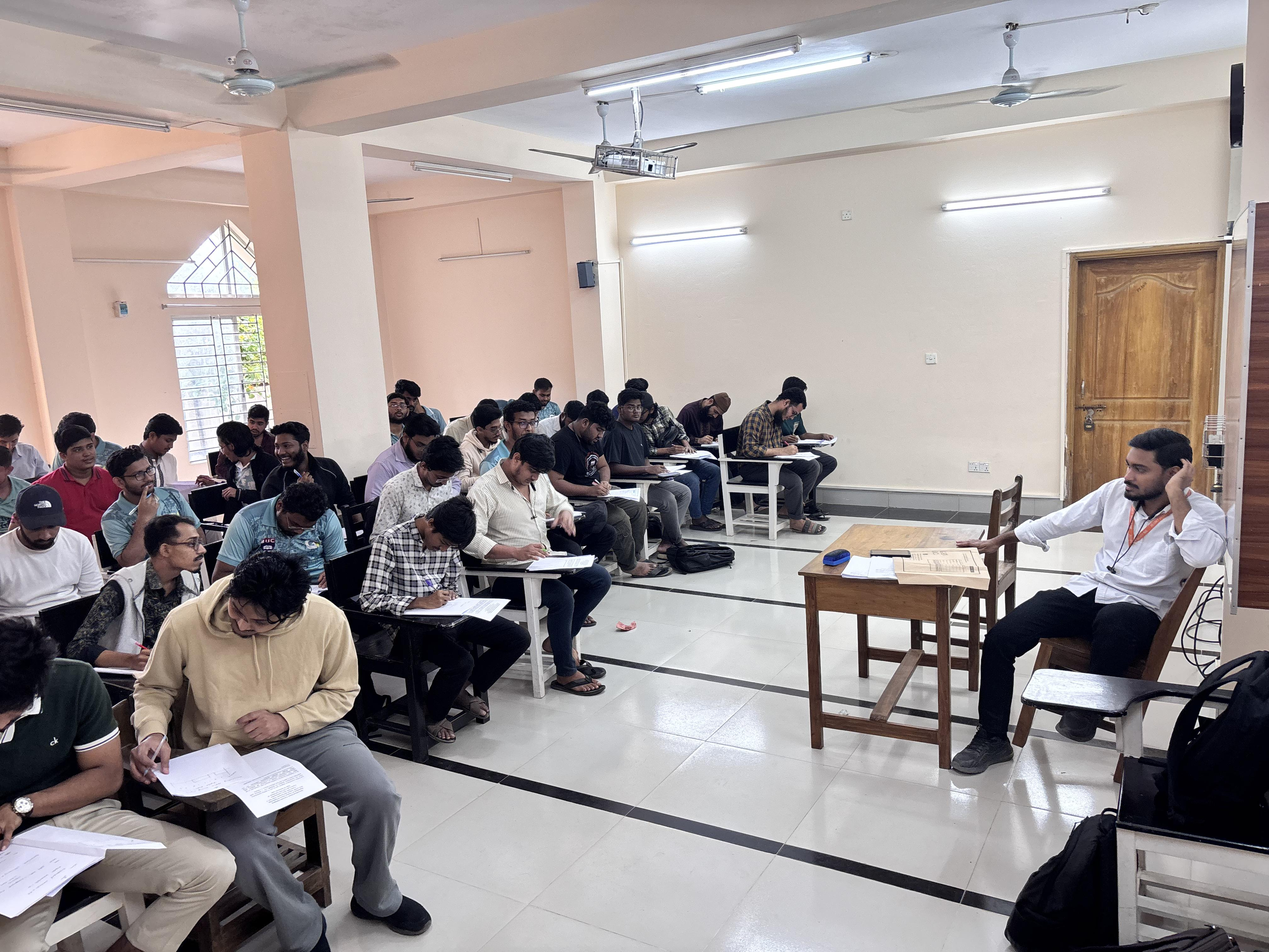copying: (131, 561, 367, 939), (107, 513, 219, 648)
invigilator: (993, 422, 1230, 730)
no_cheating: (5, 616, 134, 925), (362, 498, 533, 701), (471, 443, 579, 616), (5, 482, 102, 627), (102, 449, 206, 564), (549, 406, 627, 554), (743, 394, 817, 533), (242, 490, 365, 563), (620, 386, 666, 574), (392, 441, 479, 512), (373, 414, 444, 471), (135, 416, 186, 487), (678, 391, 739, 438), (500, 391, 557, 440), (458, 406, 507, 457), (0, 416, 32, 473)
side_talking: (263, 421, 346, 495), (201, 421, 260, 509)
suspicious_moving: (42, 424, 110, 520), (384, 391, 408, 440)
